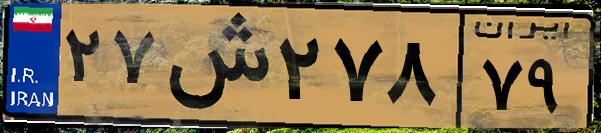2: (270, 28, 330, 110), (57, 26, 110, 100)
7: (330, 28, 385, 110), (475, 38, 525, 113), (110, 28, 158, 98)
8: (385, 28, 445, 110)
9: (525, 38, 570, 115)
ش: (158, 12, 270, 120)
